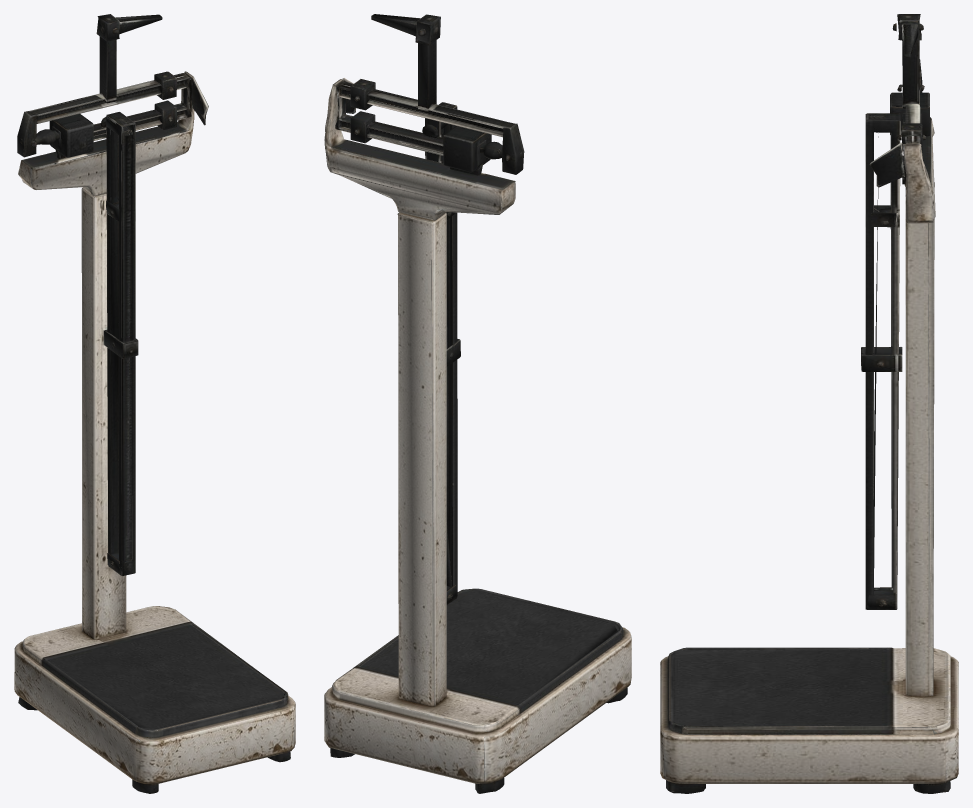
Rendered from p7-physician-scale-t25.glb.
The picture shows the model from 3 angles, left to right: view 1: azimuth 30°, elevation 25°; view 2: azimuth 150°, elevation 25°; view 3: azimuth 270°, elevation 25°; orthographic projection. The views are drawn at different scales.
Parts seen in each view (by area): view 1: p7-physician-scale-t25; view 2: p7-physician-scale-t25; view 3: p7-physician-scale-t25.
Part boxes in pixels (left/top/right/bottom): p7-physician-scale-t25: left=14, top=14, right=295, bottom=793; p7-physician-scale-t25: left=324, top=14, right=631, bottom=793; p7-physician-scale-t25: left=660, top=14, right=958, bottom=793.
Size of the model in its own units: 0.4 by 1.5 by 0.55.
Materials: 1 (1 with a texture image).
